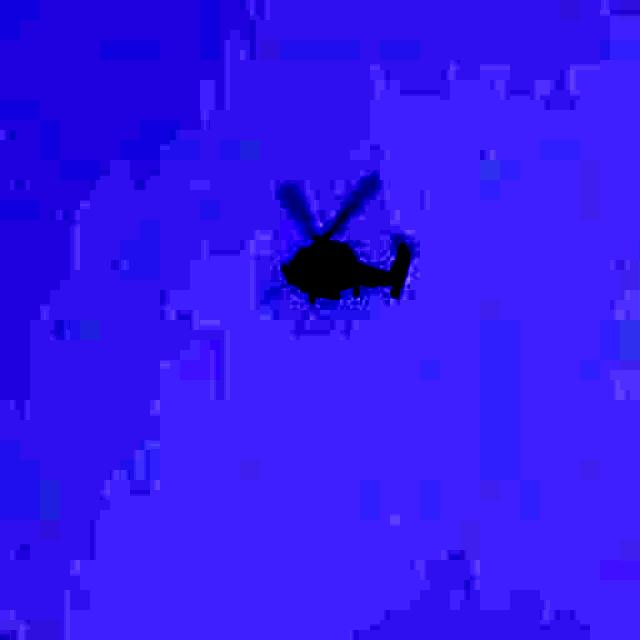drone: (256, 170, 424, 346)
